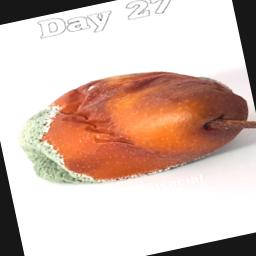Pear Rotten: (3, 46, 256, 207)
